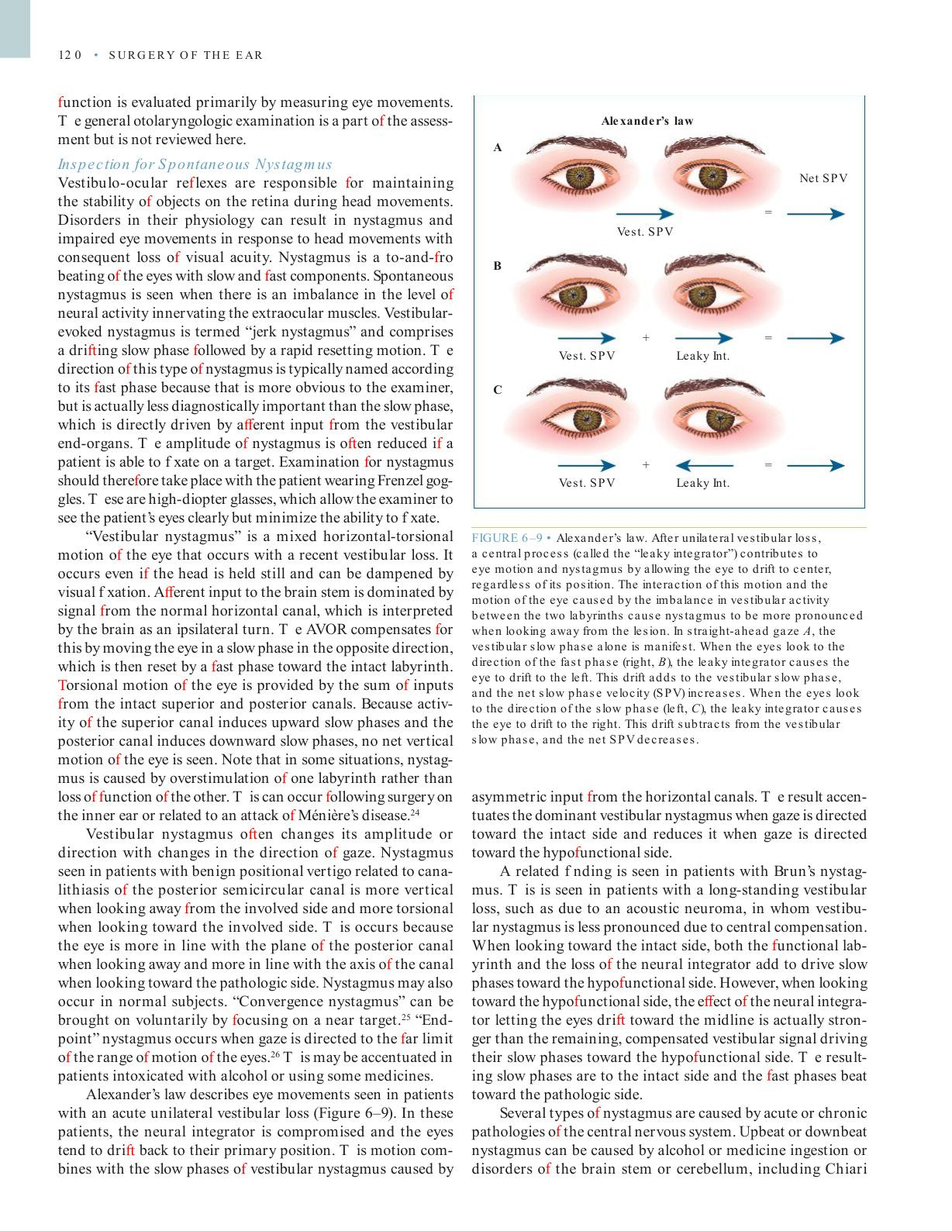caption: (470, 530, 865, 745), (493, 260, 503, 271), (493, 384, 503, 395), (493, 142, 503, 152)
header: (107, 49, 264, 61)
image: (483, 106, 857, 243), (483, 372, 857, 498), (483, 248, 859, 365)
sub-section-heading: (57, 155, 333, 173)
text: (57, 176, 455, 1179), (470, 787, 868, 1180), (54, 91, 456, 147)
